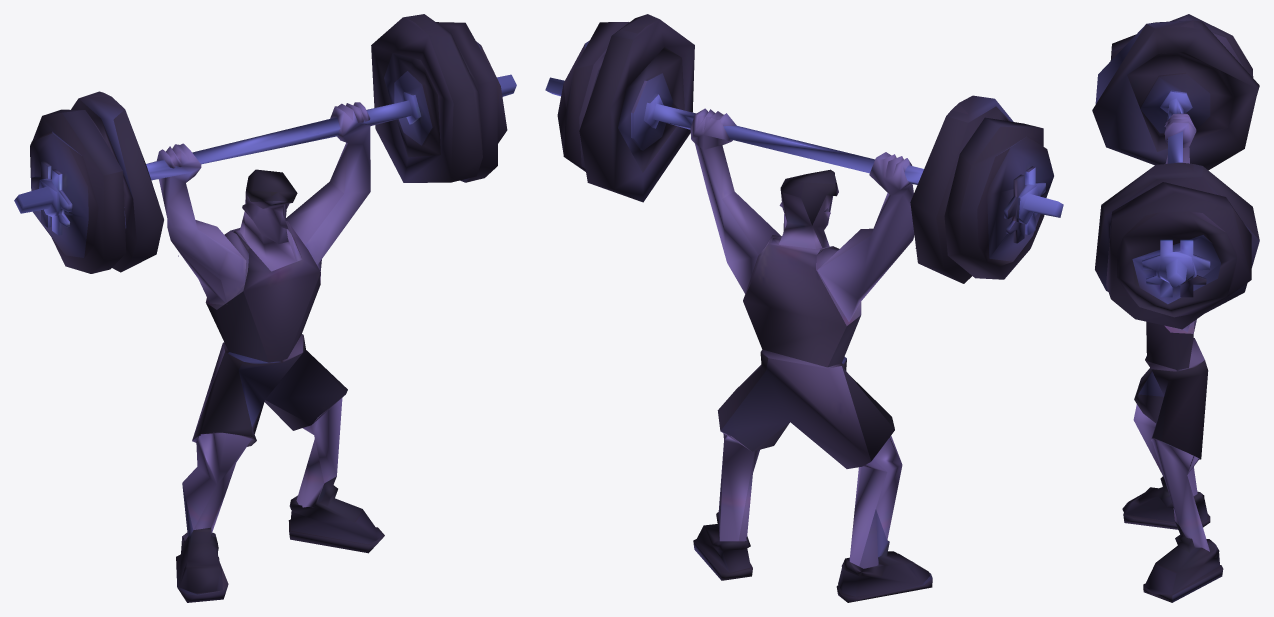
The model's file is model.progressive.glb.
3 renders of one model, left to right at view 1: azimuth 30°, elevation 25°; view 2: azimuth 150°, elevation 25°; view 3: azimuth 270°, elevation 25°, orthographic. The views are drawn at different scales.
Visible parts, largest first — view 1: material; view 2: material; view 3: material.
Boxes of the visible parts, x1,y1,x2,y2 form: material: (14, 14, 516, 602); material: (545, 14, 1063, 602); material: (1092, 14, 1259, 602).
Size of the model in its own units: 1.9 by 1.84 by 0.6092.
1 material, 1 textured.
